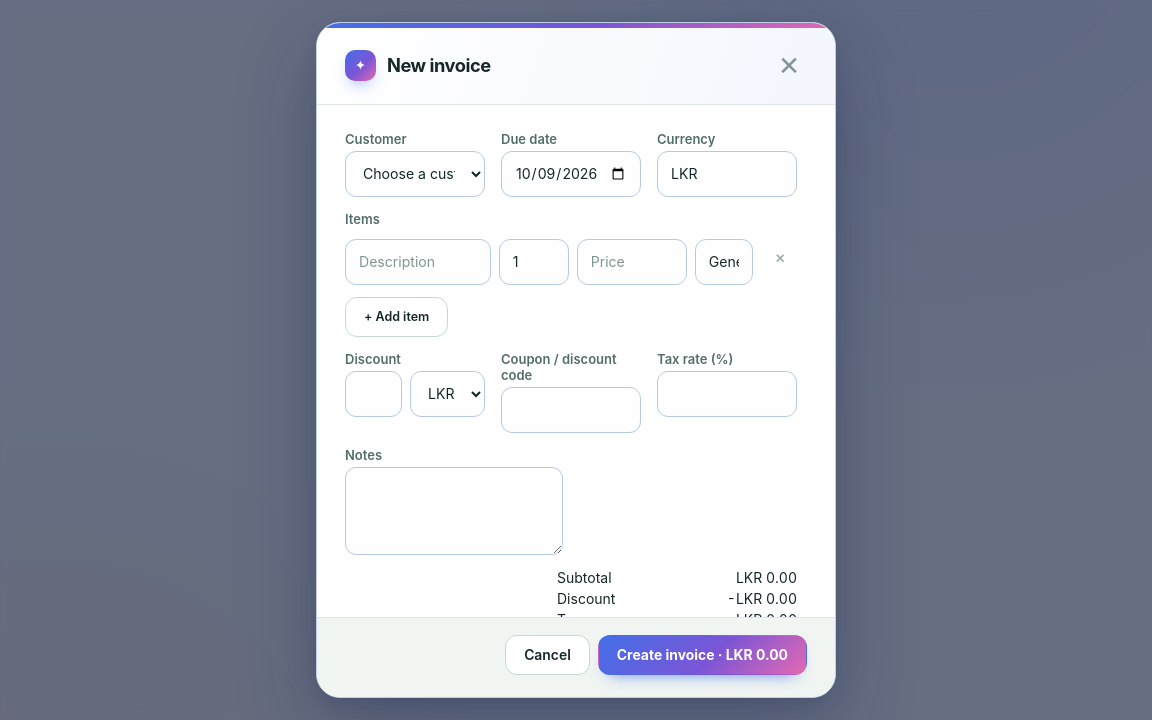
Test case: <InvoiceFormModal /> › flags a large discount while typing
Type "Whitening" into the field named "Item 1 description" at (418, 262), box [345,239,491,285]
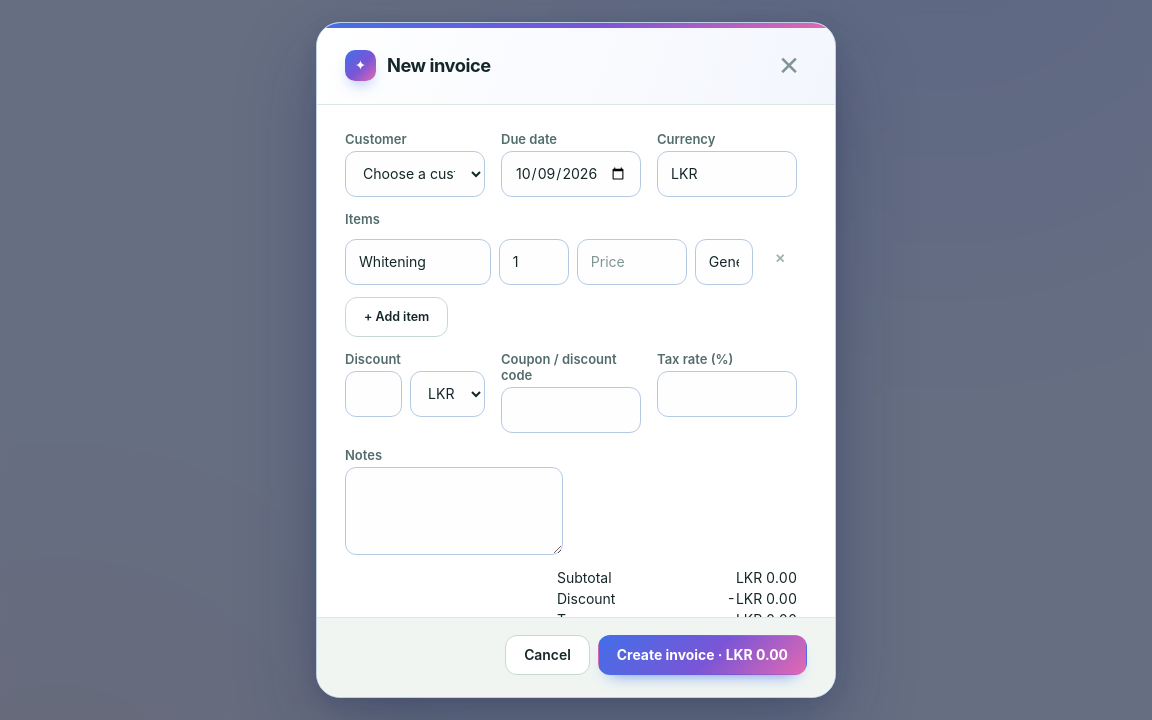
Type "100" into the number field named "Item 1 unit price" at (632, 262), box [577,239,687,285]
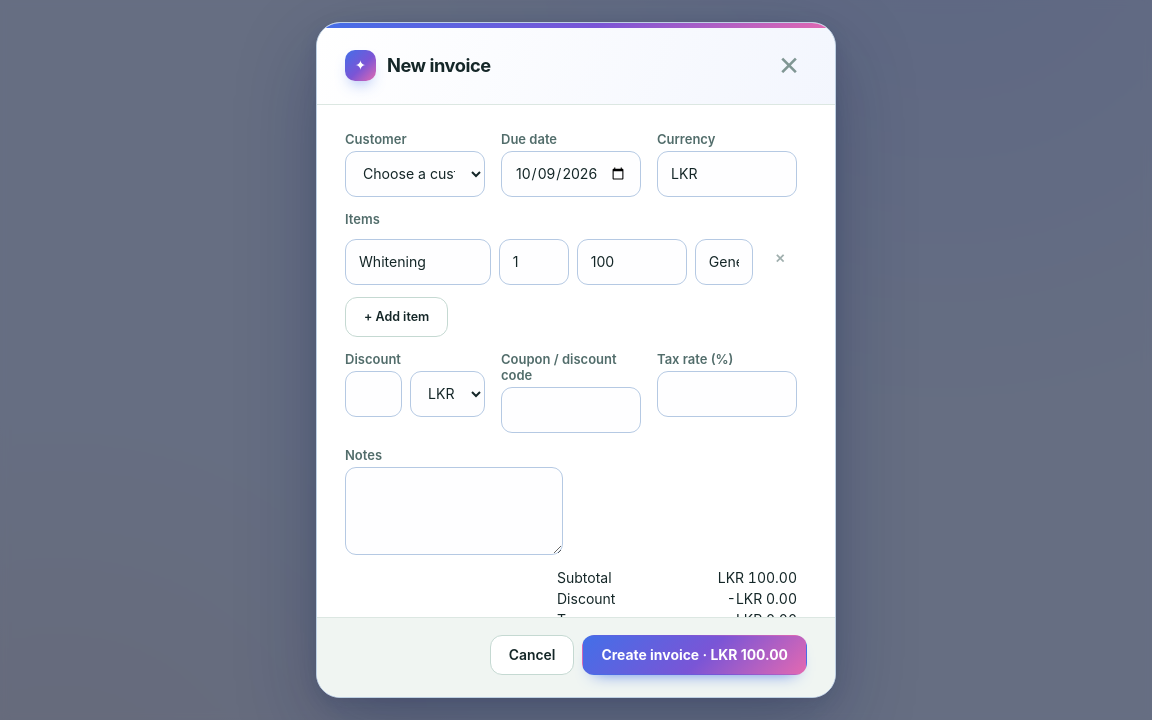
Type "60" into the number field labelled "Discount" at (374, 394), box [345,371,402,417]
(page scrolled)
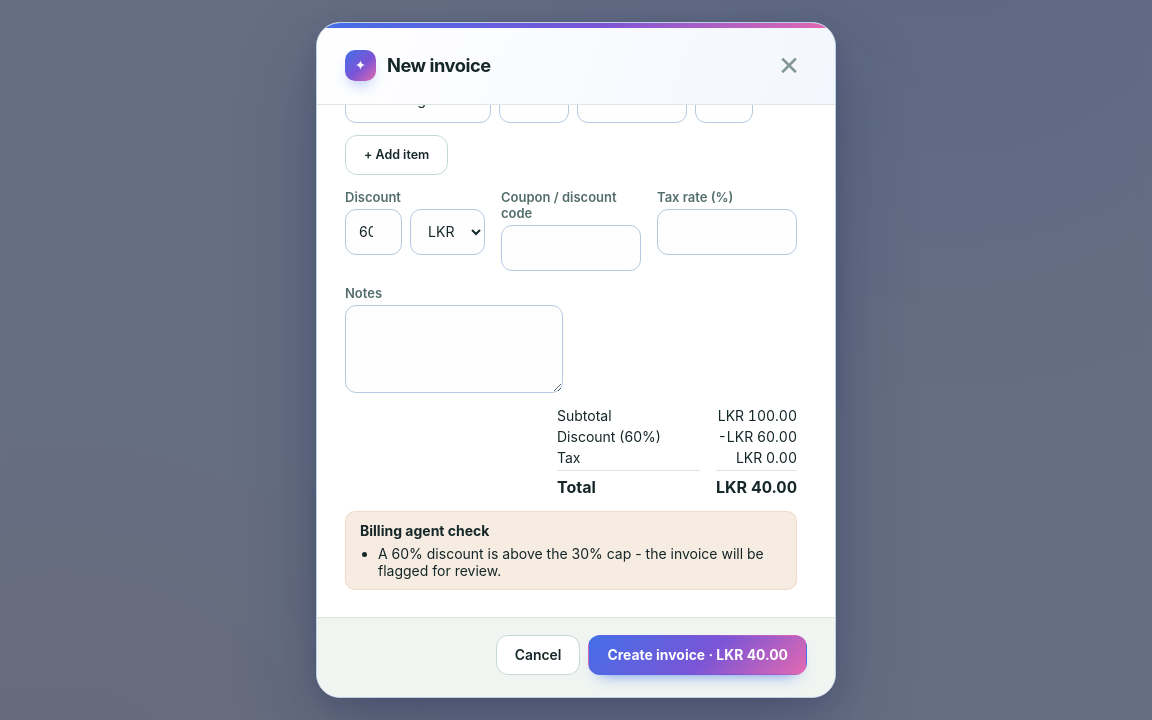
Result: the message shows "60% discount is above the 30% cap" at [378,545,764,579]
